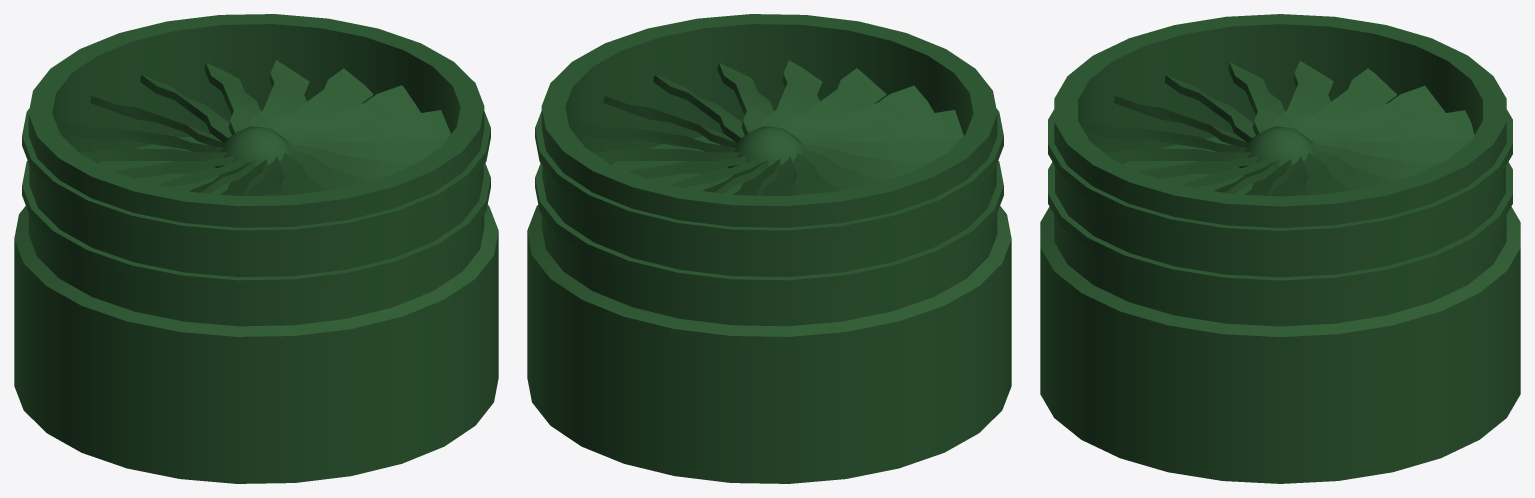
Rendered from Side_tube_04.fbx.
3 renders of one model, left to right at view 1: azimuth 30°, elevation 25°; view 2: azimuth 150°, elevation 25°; view 3: azimuth 270°, elevation 25°, orthographic.
Visible parts, largest first — view 1: Side_tube_04, Side_tube_04_propeller; view 2: Side_tube_04, Side_tube_04_propeller; view 3: Side_tube_04, Side_tube_04_propeller.
Boxes of the visible parts, bbox=[...] form: Side_tube_04: bbox=[14, 14, 498, 483]; Side_tube_04_propeller: bbox=[60, 60, 450, 195]; Side_tube_04: bbox=[527, 14, 1011, 483]; Side_tube_04_propeller: bbox=[572, 60, 963, 195]; Side_tube_04: bbox=[1040, 14, 1520, 483]; Side_tube_04_propeller: bbox=[1085, 61, 1474, 196].
Bounding box in the file's own units: 1768 × 1755 × 1094.
